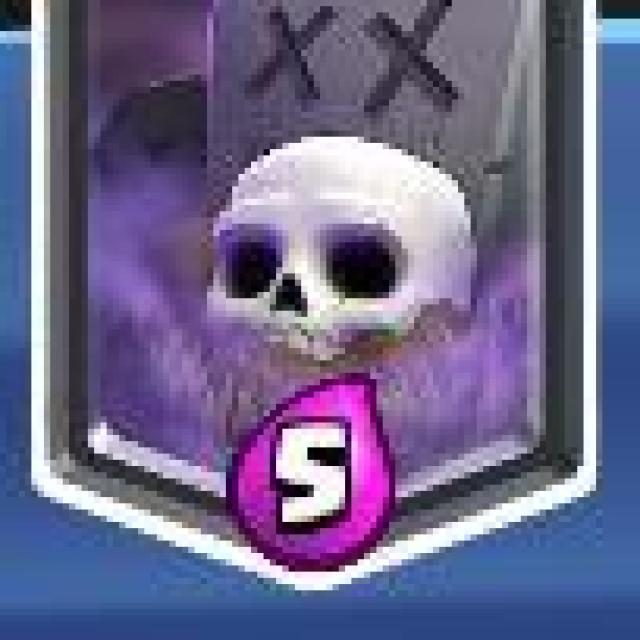Graveyard: (29, 0, 598, 595)
